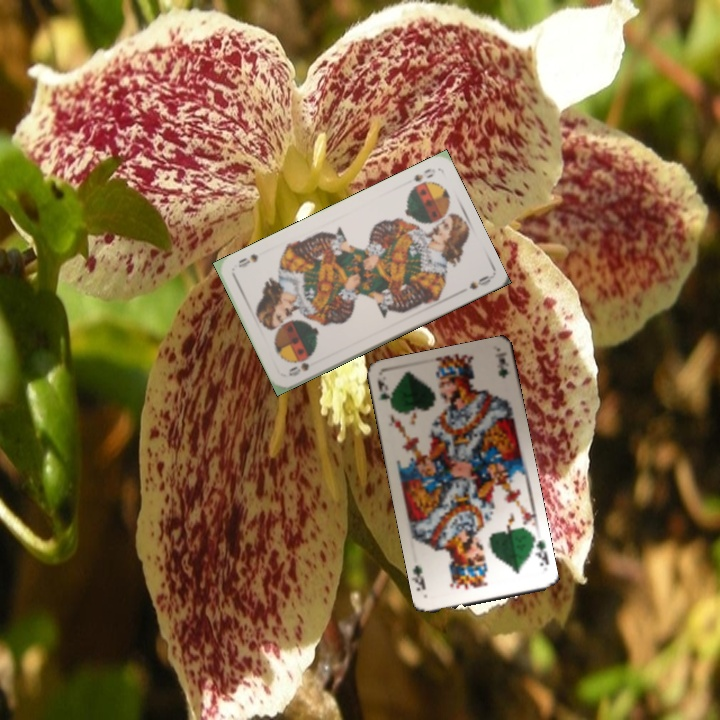GK: (373, 375, 397, 413), (528, 536, 551, 569)
SO: (409, 164, 436, 191), (284, 358, 312, 379)
